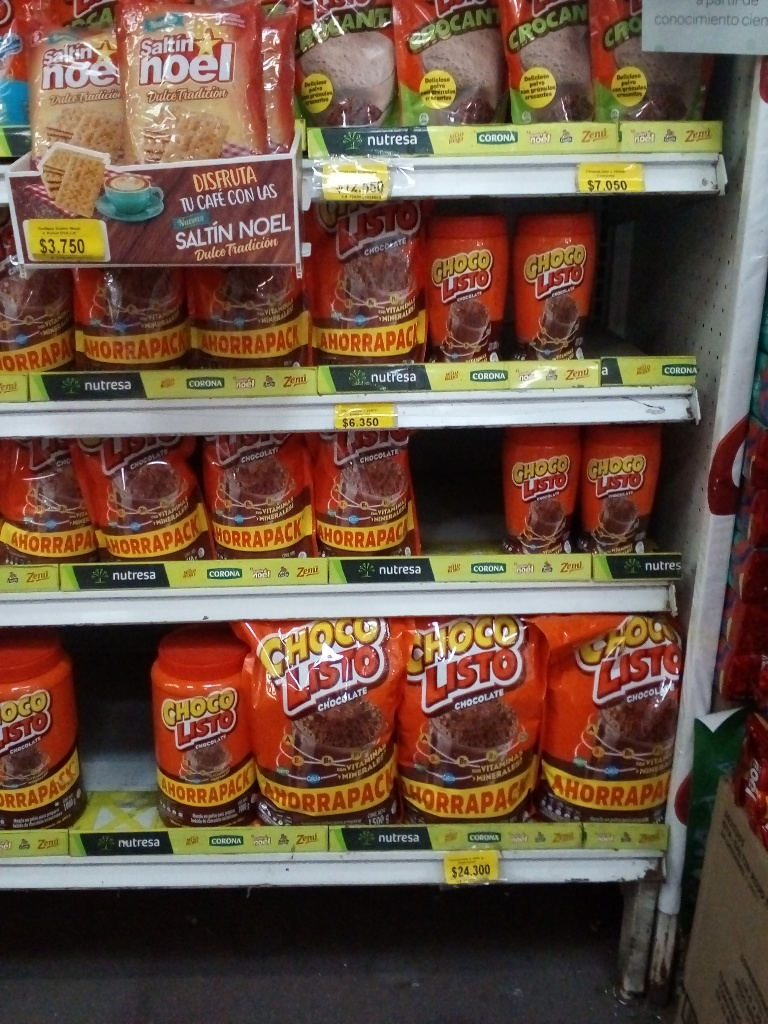COL0170102DYP50000: (287, 4, 393, 125)
COL0170103DYP1,500: (235, 613, 397, 827)
COL0170103DYP44000: (0, 436, 91, 561)
COL0170103TRR00100: (144, 631, 253, 828)
COL0170103TRR30000: (492, 428, 576, 555)
